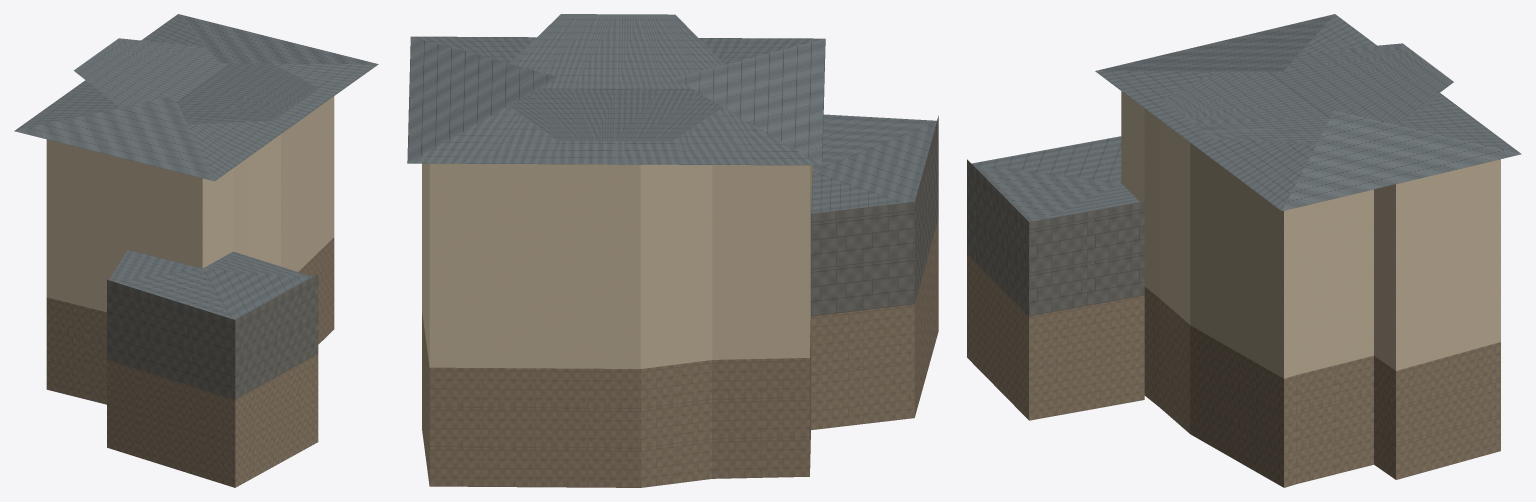
Rendered from bld_c30_-25_537.gltf.
3 renders of one model, left to right at view 1: azimuth 30°, elevation 25°; view 2: azimuth 150°, elevation 25°; view 3: azimuth 270°, elevation 25°, orthographic. The views are drawn at different scales.
Parts seen in each view (by area): view 1: bld_c30_-25_537; view 2: bld_c30_-25_537; view 3: bld_c30_-25_537.
Part boxes in pixels (box(x1,y1,x2,y2)): bld_c30_-25_537: box(14, 14, 378, 487); bld_c30_-25_537: box(407, 14, 938, 487); bld_c30_-25_537: box(967, 14, 1521, 487).
Bounding box in the file's own units: 19.78 × 15.3 × 23.5.
Materials: 5 (5 with a texture image).
